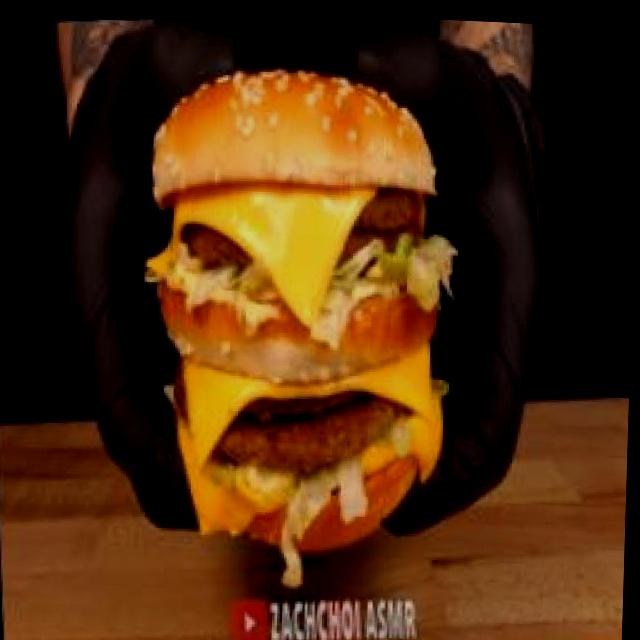burger: (130, 35, 485, 595)
